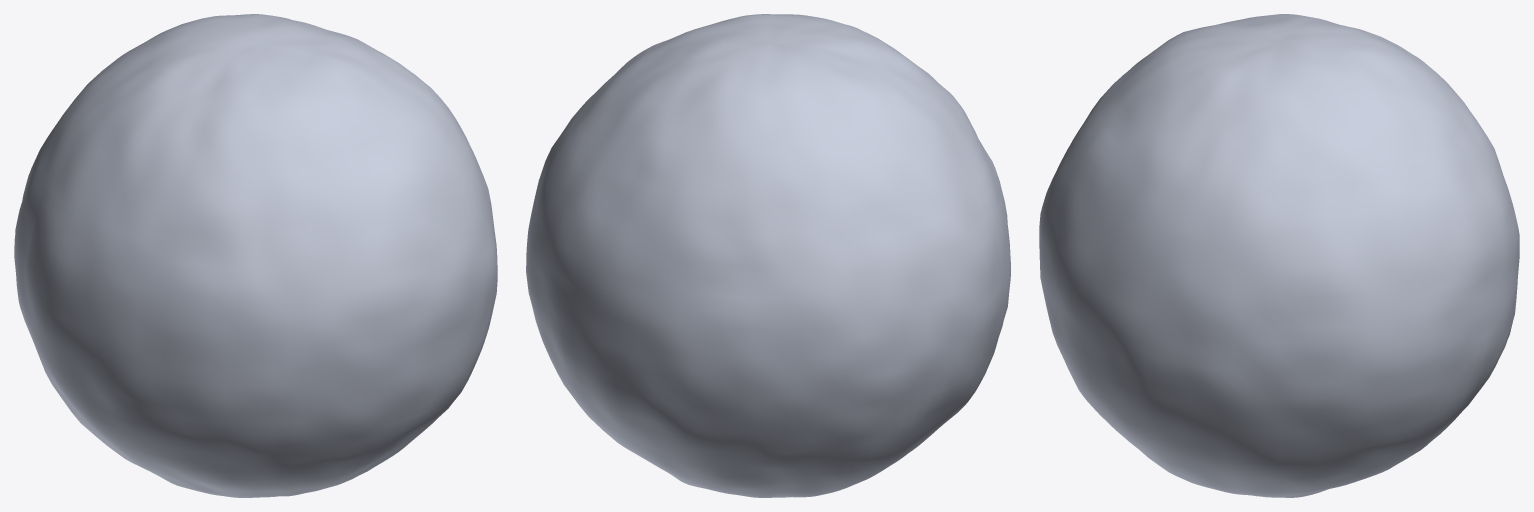
Rendered from cell.glb.
The picture shows the model from 3 angles, left to right: view 1: azimuth 30°, elevation 25°; view 2: azimuth 150°, elevation 25°; view 3: azimuth 270°, elevation 25°; orthographic projection.
Parts seen in each view (by area): view 1: membrane; view 2: membrane; view 3: membrane.
Part boxes in pixels (x1=…): membrane: x1=14, y1=14, x2=497, y2=497; membrane: x1=526, y1=14, x2=1010, y2=497; membrane: x1=1039, y1=14, x2=1519, y2=497.
Bounding box in the file's own units: 8.03 × 7.98 × 7.98.
